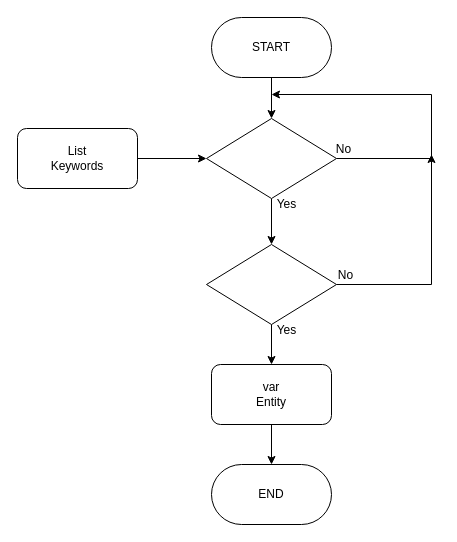
This 457x542 diagram has some shape labels left out. Here are the shapes that lost their labels. From the top down, the centre of each, then its label:
At (271,158): "Keyword Detected?".
At (271,284): "Is an Entity?".
